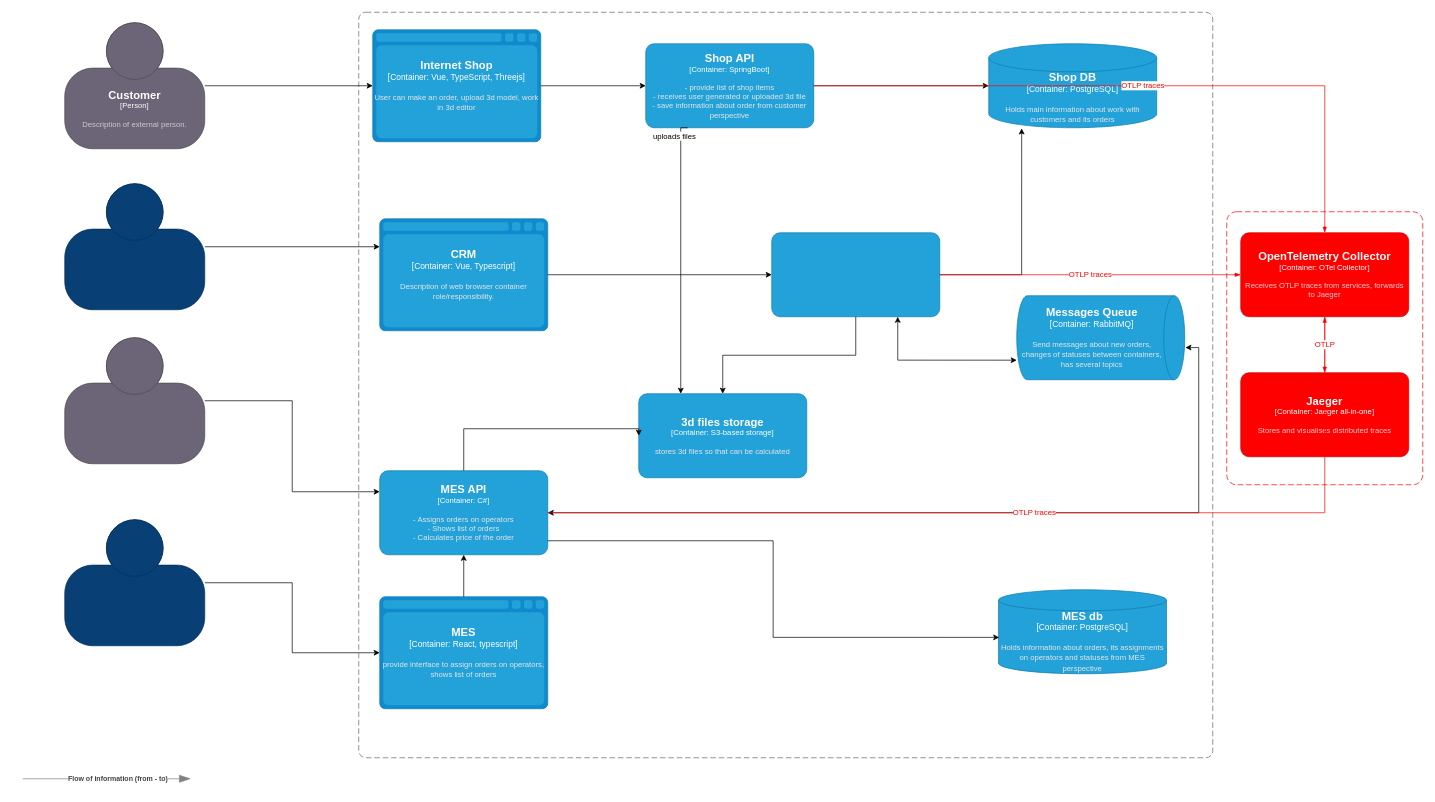
Image size: 1435x802. Some labels were removed from this diagram. Each missing label, with the box of its shape:
API user [Person] Description of external person.: (64, 337, 205, 464)
CRM API [Container: SpringBoot] Description of container role/responsibility.: (771, 232, 940, 317)
Jewerly Store System [Software System]: (358, 12, 1213, 758)
Observability: (1226, 211, 1423, 485)
Operator [Person] Takes order in work, manufactures jewerly: (64, 519, 205, 646)
Seller [Person] Operates with order, confirms manufacturing for the user: (64, 183, 205, 310)
